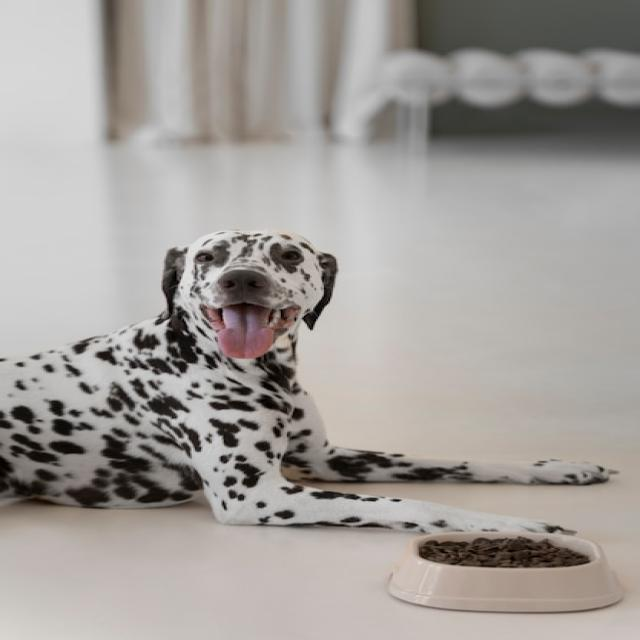Dog: (0, 229, 620, 534)
